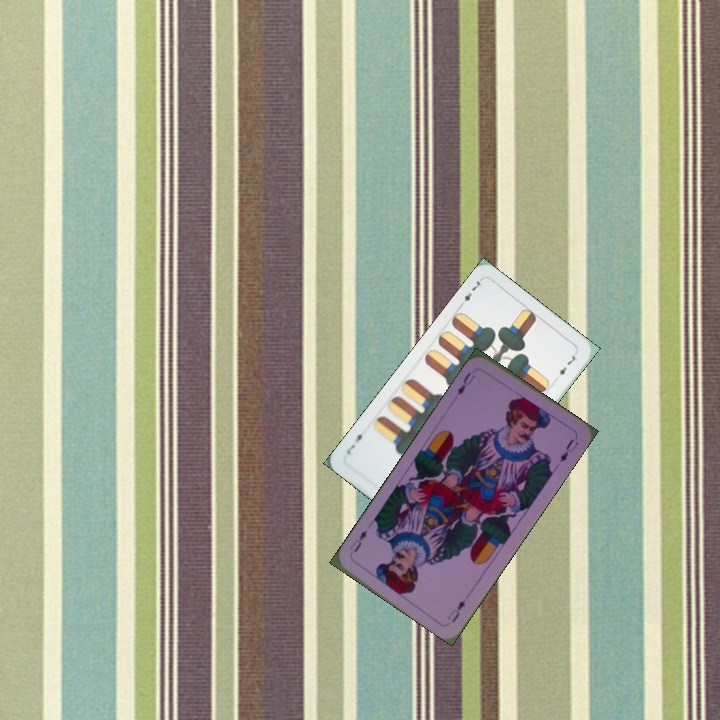E7: (455, 275, 484, 310)
EU: (453, 368, 478, 399), (443, 595, 468, 625)
